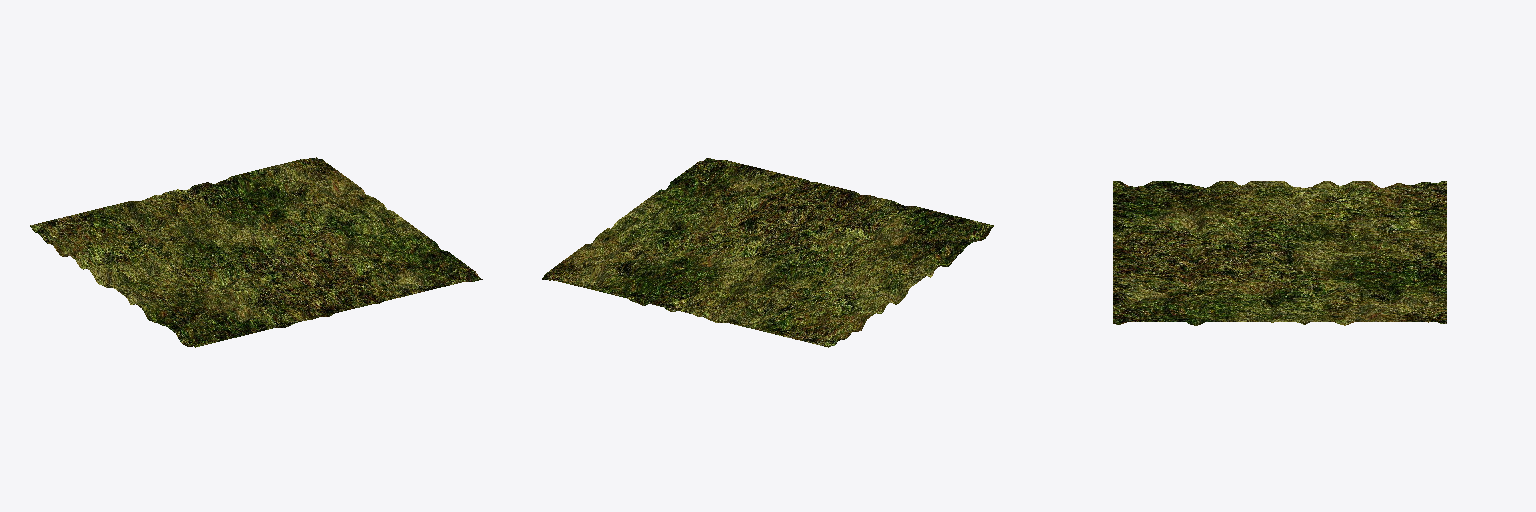
3 renders of one model, left to right at view 1: azimuth 30°, elevation 25°; view 2: azimuth 150°, elevation 25°; view 3: azimuth 270°, elevation 25°, orthographic.
Visible parts, largest first — view 1: Plane; view 2: Plane; view 3: Plane.
Part boxes in pixels (x1,y1,x2,y2): Plane: (30, 157, 482, 347); Plane: (542, 158, 993, 347); Plane: (1113, 181, 1446, 325).
Bounding box in the file's own units: 20.16 × 0.6 × 20.16.
Materials: 1 (1 with a texture image).